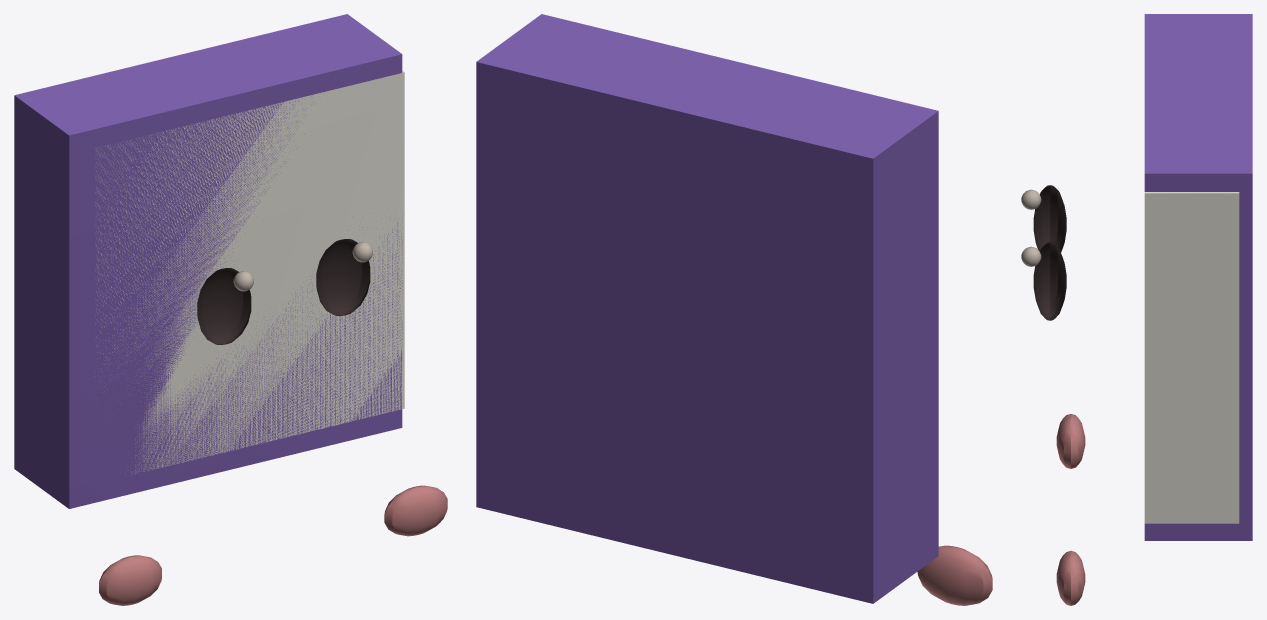
The picture shows the model from 3 angles, left to right: view 1: azimuth 30°, elevation 25°; view 2: azimuth 150°, elevation 25°; view 3: azimuth 270°, elevation 25°; orthographic projection. The views are drawn at different scales.
Parts seen in each view (by area): view 1: pet_p74be67e7; view 2: pet_p74be67e7; view 3: pet_p74be67e7.
Boxes of the visible parts, x1,y1,x2,y2 form: pet_p74be67e7: (14, 14, 447, 605); pet_p74be67e7: (476, 14, 992, 605); pet_p74be67e7: (1021, 14, 1252, 605).
Size of the model in its own units: 0.2932 by 0.3589 by 0.1714.
